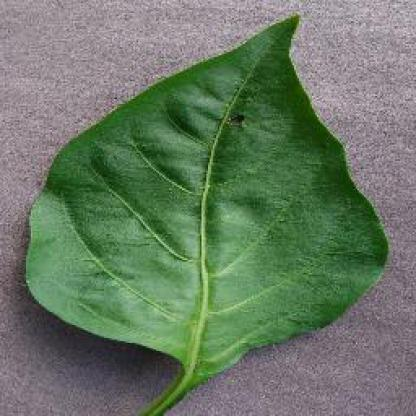good leaf: (12, 15, 383, 393)
